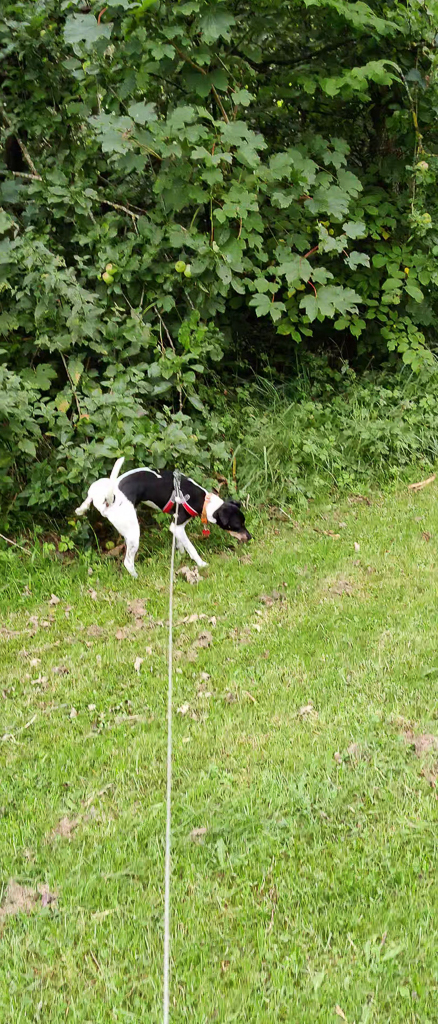Dog: (63, 448, 256, 586)
